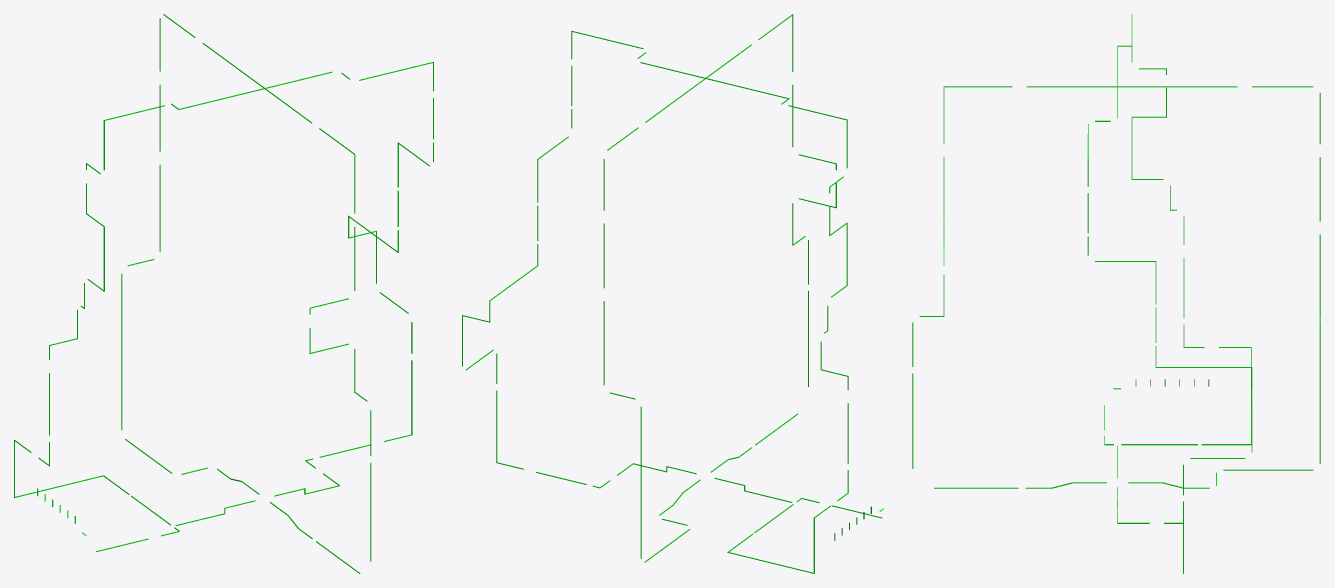
File: Zona04_Circuito.fbx
3 renders of one model, left to right at view 1: azimuth 30°, elevation 25°; view 2: azimuth 150°, elevation 25°; view 3: azimuth 270°, elevation 25°, orthographic. The views are drawn at different scales.
Parts seen in each view (by area): view 1: Circuito_d, Circuito_b, Circuito_c, Circuito_a; view 2: Circuito_b, Circuito_d, Circuito_a, Circuito_c; view 3: Circuito_c, Circuito_a, Circuito_b, Circuito_d, CircuitoBase.
Boxes of the visible parts, x1=… form: Circuito_d: x1=274, y1=62, x2=433, y2=496; Circuito_b: x1=14, y1=105, x2=255, y2=525; Circuito_c: x1=270, y1=128, x2=371, y2=573; Circuito_a: x1=121, y1=14, x2=259, y2=494; Circuito_b: x1=714, y1=105, x2=848, y2=573; Circuito_d: x1=462, y1=31, x2=696, y2=488; Circuito_a: x1=603, y1=127, x2=700, y2=562; Circuito_c: x1=711, y1=14, x2=836, y2=472; Circuito_c: x1=912, y1=86, x2=1106, y2=488; Circuito_a: x1=1128, y1=86, x2=1320, y2=488; Circuito_b: x1=1117, y1=14, x2=1251, y2=478; Circuito_d: x1=1087, y1=120, x2=1252, y2=573; CircuitoBase: x1=1026, y1=45, x2=1237, y2=118.
Size of the model in its own units: 2364 by 2590 by 2382.
